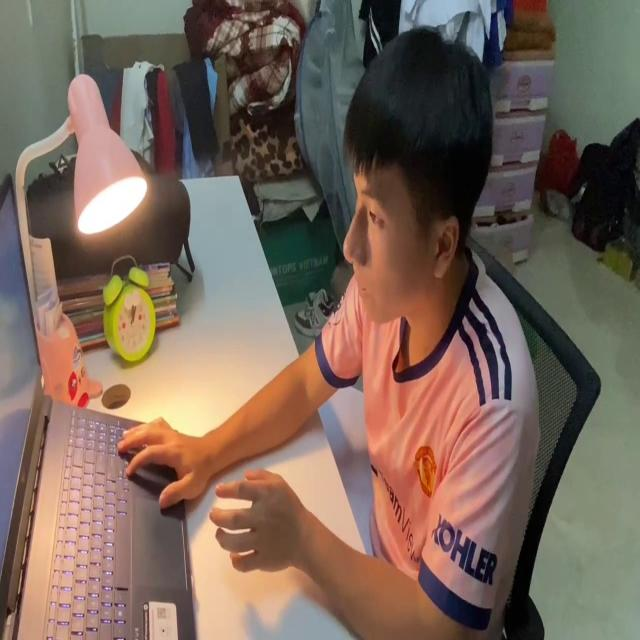book: (316, 376, 376, 559)
laptop: (0, 170, 198, 640)
student: (113, 26, 539, 640)
